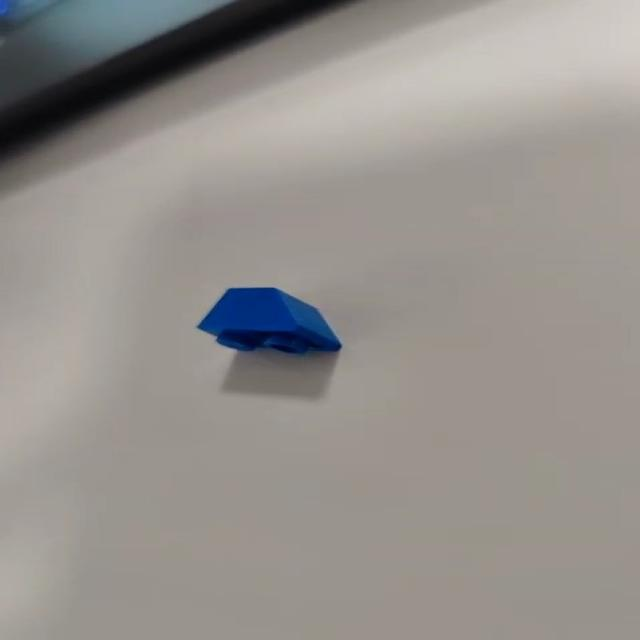X1x2x1: (192, 284, 344, 354)
